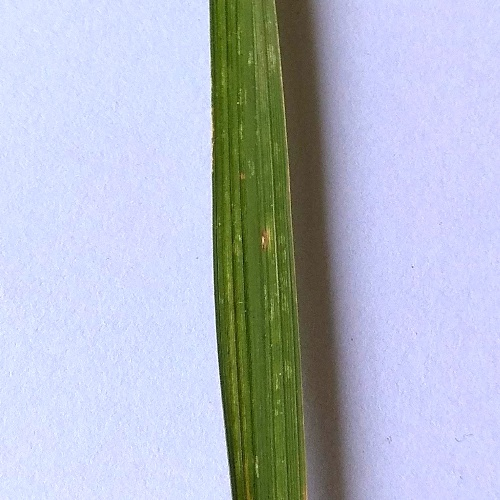Busuk Leher: (255, 219, 278, 255), (235, 161, 253, 189)
